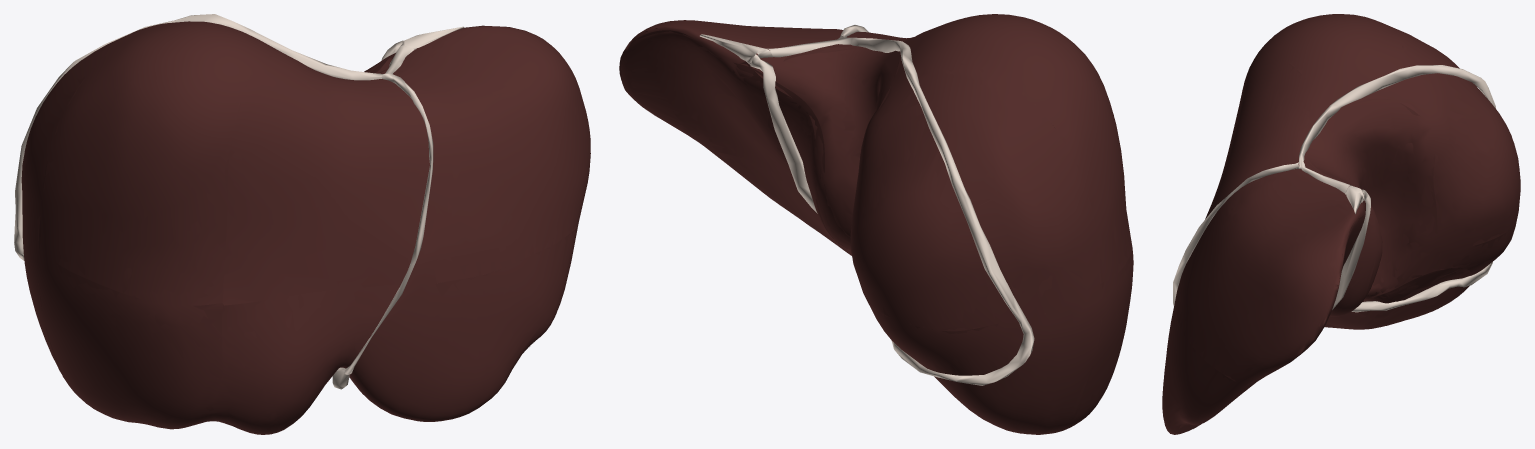
File: vh_f_liver-20.glb
The picture shows the model from 3 angles, left to right: view 1: azimuth 30°, elevation 25°; view 2: azimuth 150°, elevation 25°; view 3: azimuth 270°, elevation 25°; orthographic projection. The views are drawn at different scales.
Parts seen in each view (by area): view 1: VH_F_capsule_of_the_liver, VH_F_left_superomedial_segment1, VH_F_left_superomedial_segment, VH_F_right_anterosuperior_segment, VH_F_left_inferomedial_segment, VH_F_right_anteroinferior_segment, VH_F_left_anterolateral_segment, VH_F_coronary_ligament_of_liver, VH_F_falciform_ligament, VH_F_right_posterosuperior_segment; view 2: VH_F_capsule_of_the_liver, VH_F_bare_area_of_liver, VH_F_right_posterosuperior_segment, VH_F_diaphragmatic_surface_of_liver, VH_F_left_superomedial_segment, VH_F_coronary_ligament_of_liver, VH_F_caudate_lobe, VH_F_right_anterosuperior_segment, VH_F_right_posteroinferior_segment, VH_F_ligamentum_venosum, VH_F_gastric_impression_of_liver, VH_F_left_anterolateral_segment (+2 smaller); view 3: VH_F_capsule_of_the_liver, VH_F_bare_area_of_liver, VH_F_left_superomedial_segment, VH_F_caudate_lobe, VH_F_right_posterosuperior_segment, VH_F_coronary_ligament_of_liver, VH_F_left_superomedial_segment1, VH_F_diaphragmatic_surface_of_liver, VH_F_left_anterolateral_segment, VH_F_falciform_ligament, VH_F_ligamentum_venosum, VH_F_right_posteroinferior_segment (+3 smaller).
Part boxes in pixels (x1=…): VH_F_capsule_of_the_liver: x1=21, y1=21, x2=590, y2=434; VH_F_left_superomedial_segment1: x1=222, y1=55, x2=433, y2=305; VH_F_left_superomedial_segment: x1=380, y1=27, x2=590, y2=284; VH_F_right_anterosuperior_segment: x1=38, y1=21, x2=277, y2=305; VH_F_left_inferomedial_segment: x1=208, y1=284, x2=398, y2=433; VH_F_right_anteroinferior_segment: x1=38, y1=248, x2=223, y2=426; VH_F_left_anterolateral_segment: x1=350, y1=227, x2=577, y2=419; VH_F_coronary_ligament_of_liver: x1=14, y1=14, x2=413, y2=260; VH_F_falciform_ligament: x1=344, y1=73, x2=433, y2=374; VH_F_right_posterosuperior_segment: x1=22, y1=29, x2=145, y2=247; VH_F_capsule_of_the_liver: x1=620, y1=14, x2=1133, y2=434; VH_F_bare_area_of_liver: x1=751, y1=47, x2=1023, y2=375; VH_F_right_posterosuperior_segment: x1=851, y1=61, x2=1101, y2=331; VH_F_diaphragmatic_surface_of_liver: x1=619, y1=30, x2=998, y2=426; VH_F_left_superomedial_segment: x1=622, y1=21, x2=842, y2=178; VH_F_coronary_ligament_of_liver: x1=766, y1=36, x2=1034, y2=385; VH_F_caudate_lobe: x1=778, y1=47, x2=899, y2=248; VH_F_right_anterosuperior_segment: x1=895, y1=15, x2=1131, y2=282; VH_F_right_posteroinferior_segment: x1=866, y1=283, x2=1101, y2=434; VH_F_ligamentum_venosum: x1=750, y1=54, x2=817, y2=213; VH_F_gastric_impression_of_liver: x1=669, y1=60, x2=851, y2=253; VH_F_left_anterolateral_segment: x1=718, y1=152, x2=845, y2=248; VH_F_capsule_of_the_liver: x1=1162, y1=14, x2=1472, y2=434; VH_F_bare_area_of_liver: x1=1306, y1=74, x2=1520, y2=299; VH_F_left_superomedial_segment: x1=1176, y1=172, x2=1365, y2=381; VH_F_caudate_lobe: x1=1305, y1=98, x2=1440, y2=316; VH_F_right_posterosuperior_segment: x1=1393, y1=30, x2=1520, y2=245; VH_F_coronary_ligament_of_liver: x1=1299, y1=65, x2=1495, y2=312; VH_F_left_superomedial_segment1: x1=1198, y1=57, x2=1325, y2=241; VH_F_diaphragmatic_surface_of_liver: x1=1170, y1=201, x2=1495, y2=433; VH_F_left_anterolateral_segment: x1=1162, y1=298, x2=1237, y2=431; VH_F_falciform_ligament: x1=1173, y1=162, x2=1298, y2=305; VH_F_ligamentum_venosum: x1=1332, y1=189, x2=1370, y2=309; VH_F_right_posteroinferior_segment: x1=1387, y1=224, x2=1514, y2=325.
Bounding box in the file's own units: 0.2472 × 0.17 × 0.1663.
